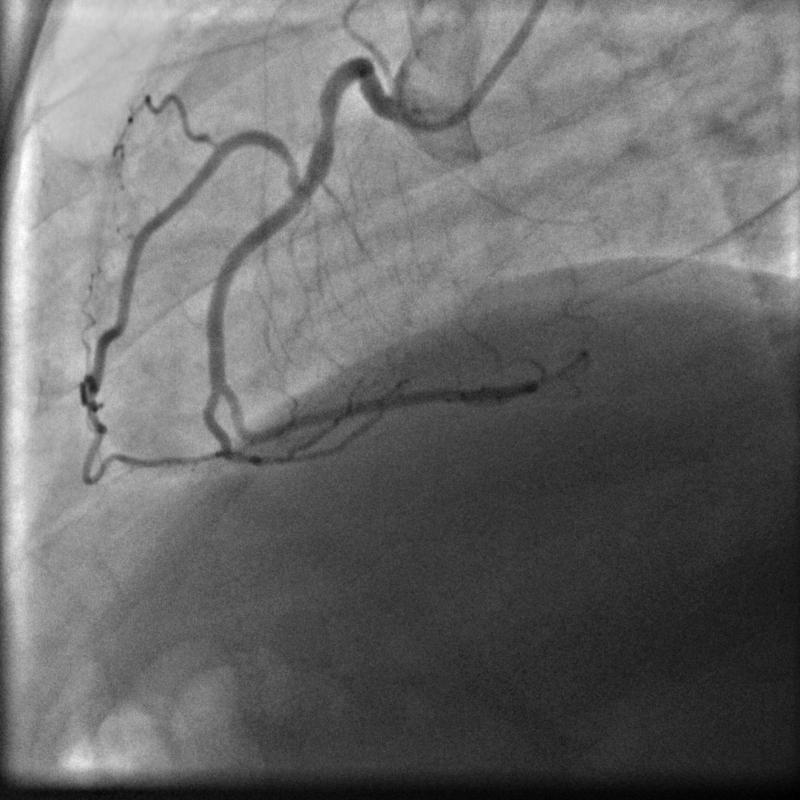Stenosis: (312, 101, 338, 136)
